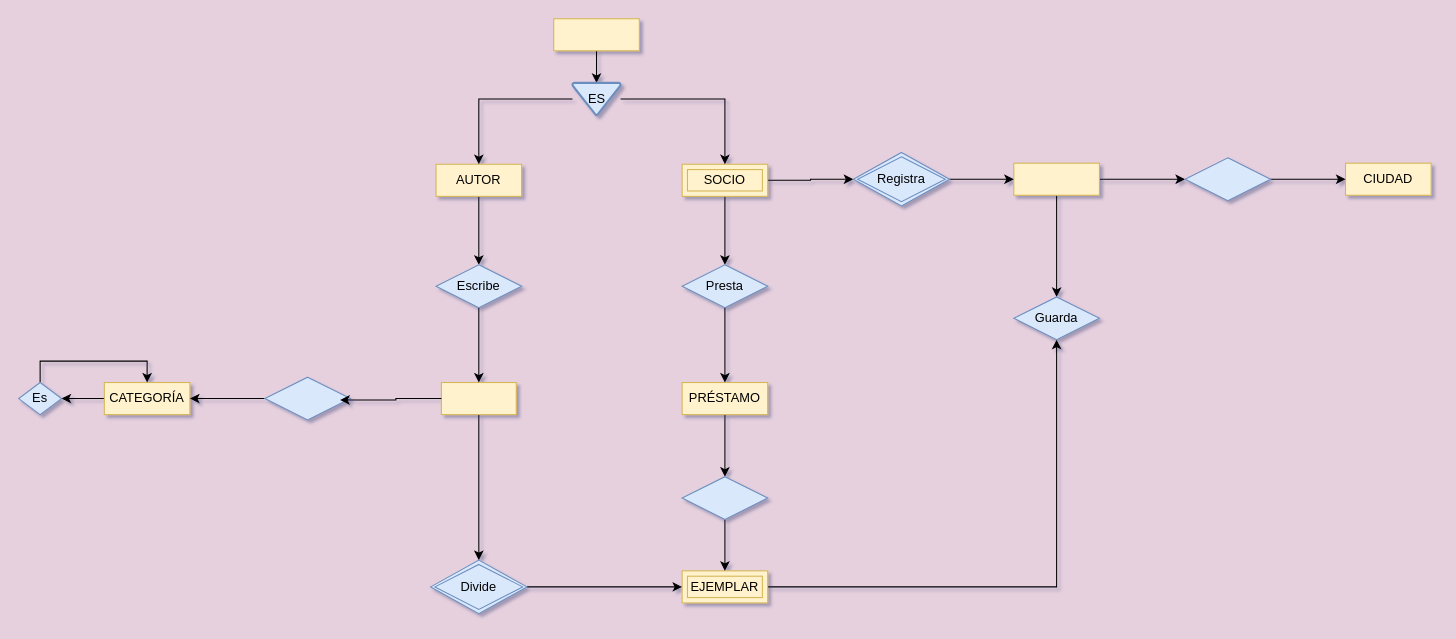
Some shapes in this 1456 by 639 pixel diagram are drawn without their labels. Here are the shapes that lost their labels. From the top down, the centre of each, then its label:
the point at 596,34: PERSONA
the point at 1056,178: BIBLIOTECA
the point at 1227,179: Ubica
the point at 307,398: Pertenece
the point at 478,398: LIBRO
the point at 724,497: Retira
